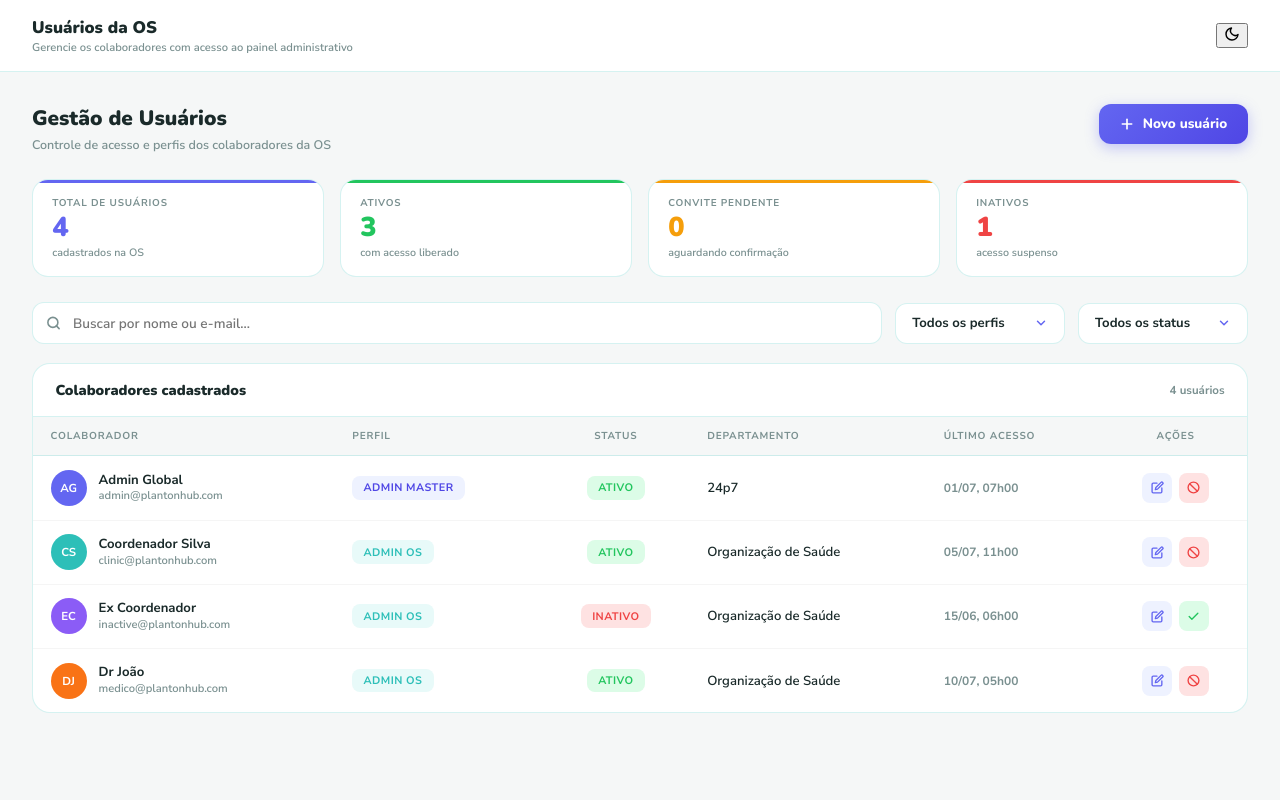
Test: <AdminUsuariosOS /> › botão salvar fica desabilitado até preencher nome, e-mail e perfil
Check: the text "Admin Global" is shown, box [99,471,183,489]
Step 1. Click the button "Novo usuário" → click(1173, 124), box [1099,104,1248,144]
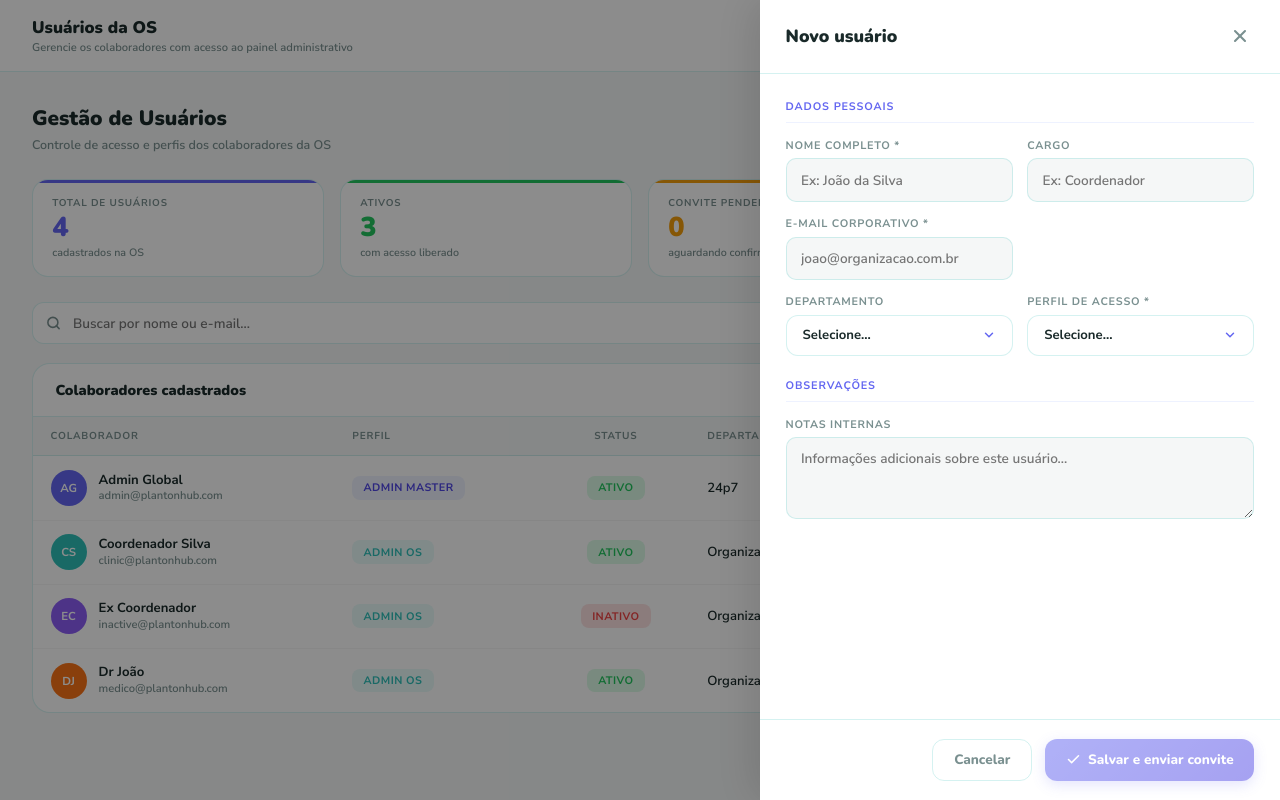
Check: the button "Salvar e enviar convite" is disabled, box [1045,739,1254,781]
Step 2. Type "Novo Colaborador" into the field with placeholder "Ex: João da Silva" → (899, 180), box [786,158,1013,202]
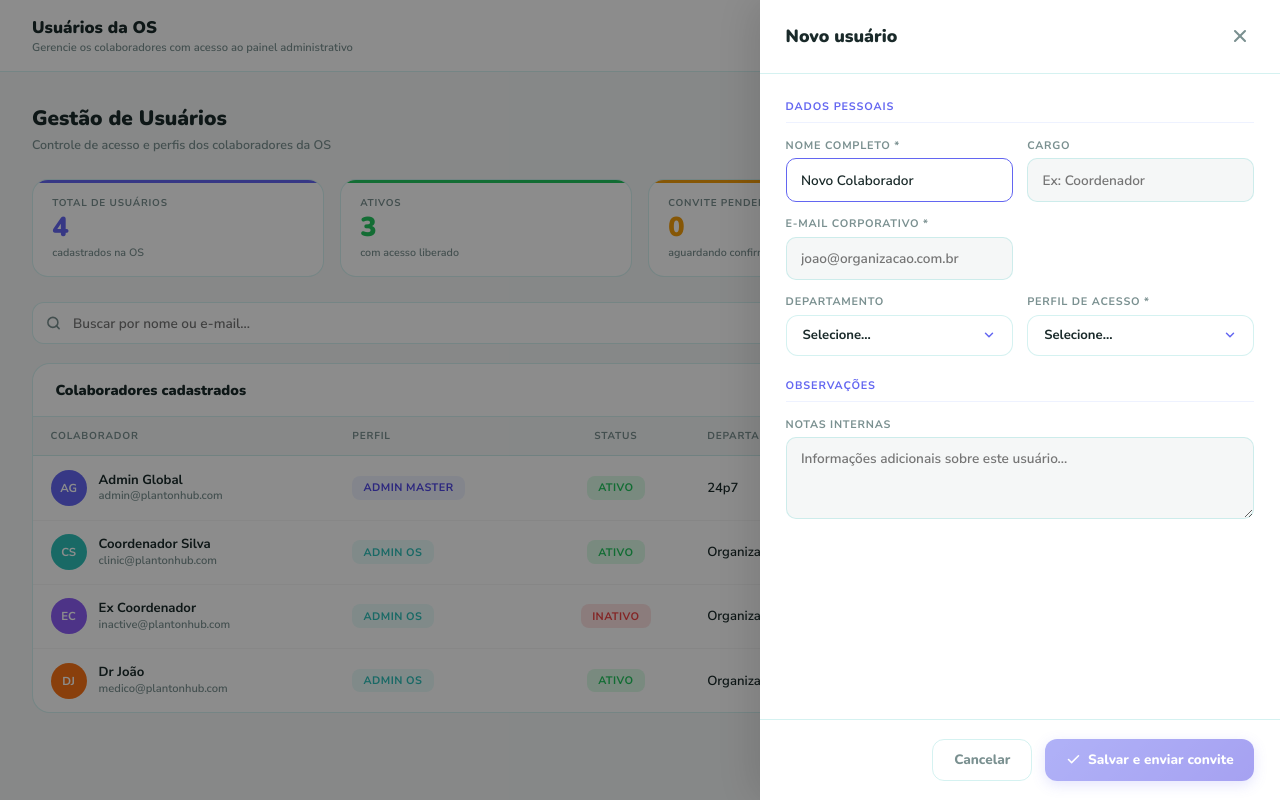
Step 3. Type "novo@os.com" into the field with placeholder "joao@organizacao.com.br" → (899, 258), box [786,237,1013,280]
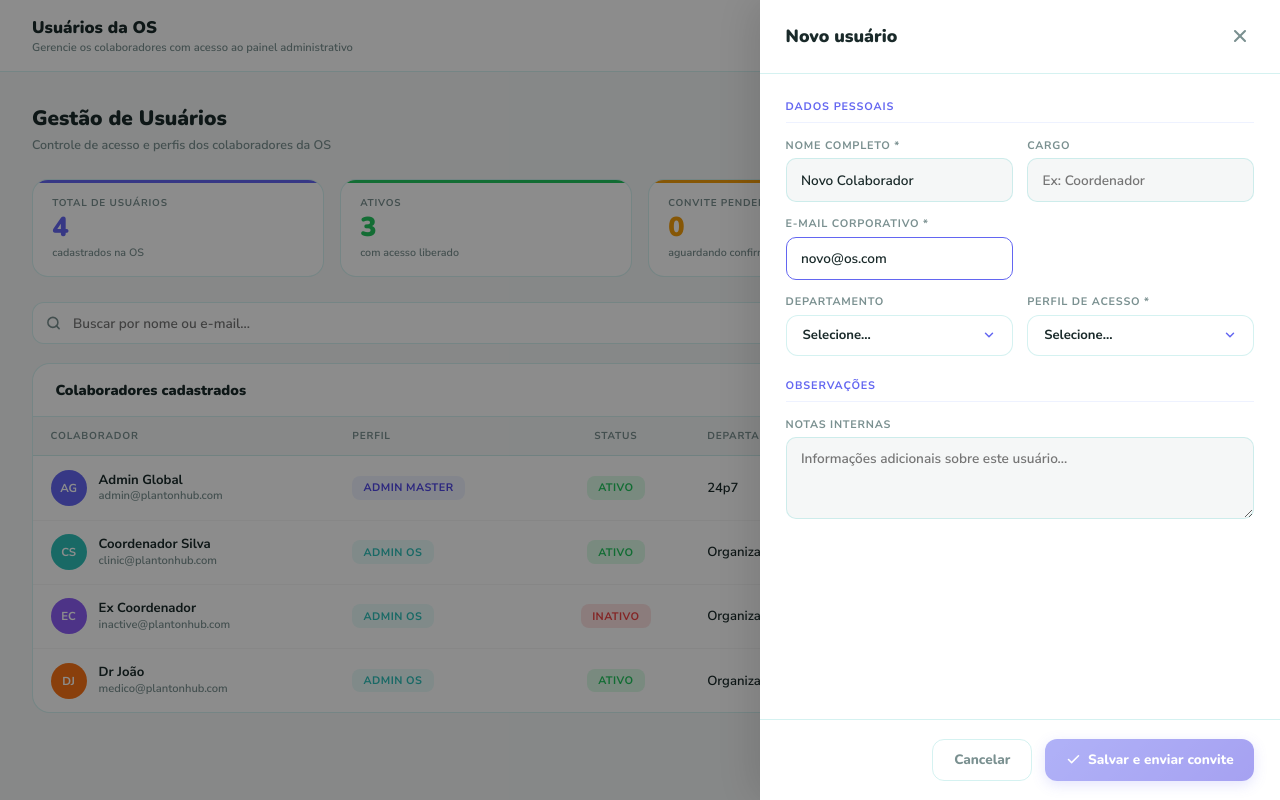
Check: the button "Salvar e enviar convite" is disabled, box [1045,739,1254,781]
Step 4. Click the button with class "uos-cselect-btn" below "Perfil de acesso *" → click(1141, 336), box [1027,315,1254,356]
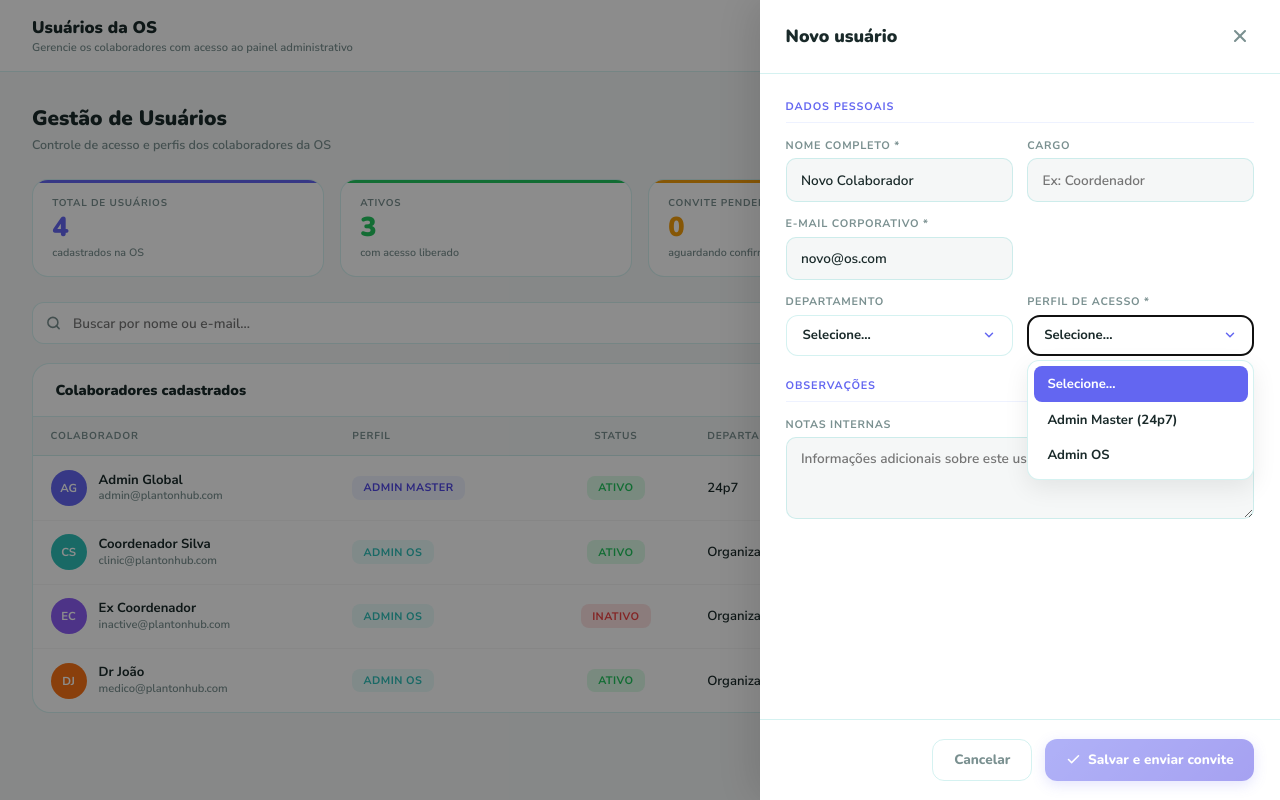
Step 5. Click the text "Admin OS" → click(1078, 455), box [1047,446,1110,464]
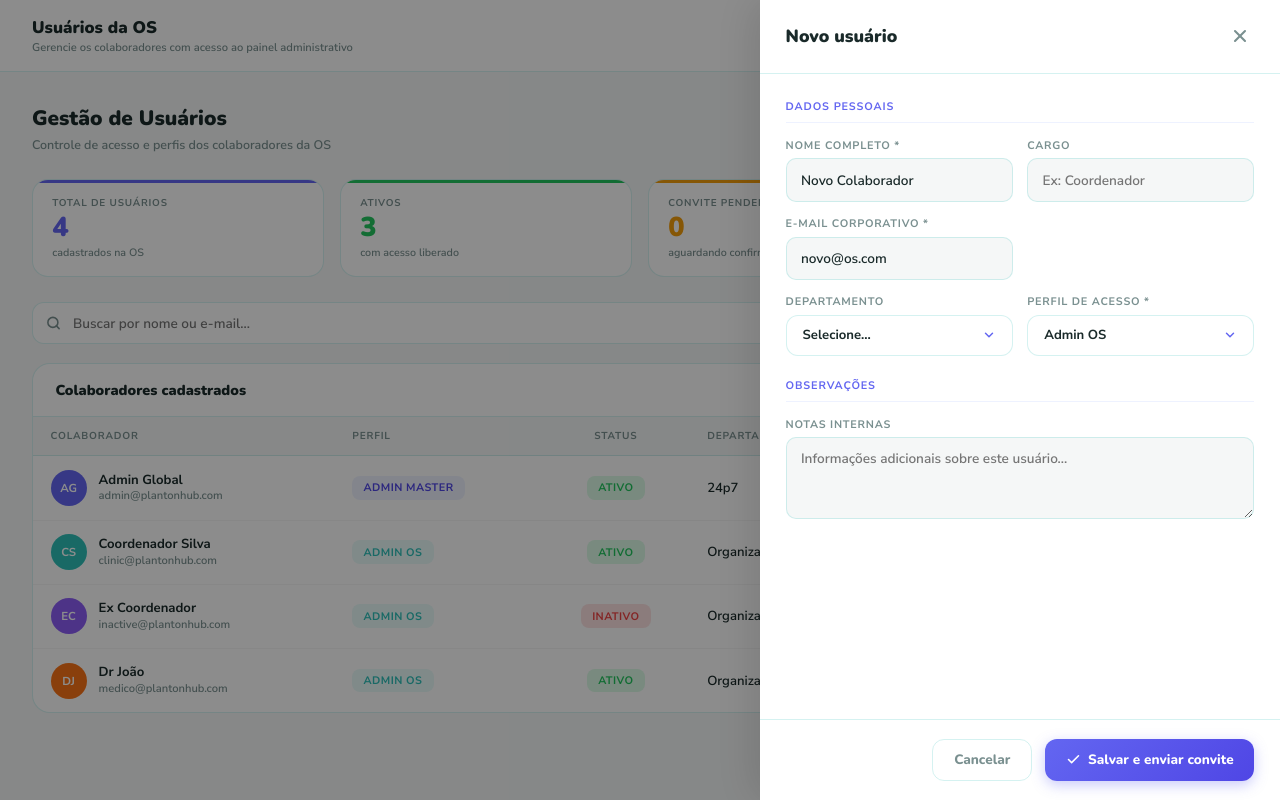
Check: the button "Salvar e enviar convite" is enabled, box [1045,739,1254,781]
